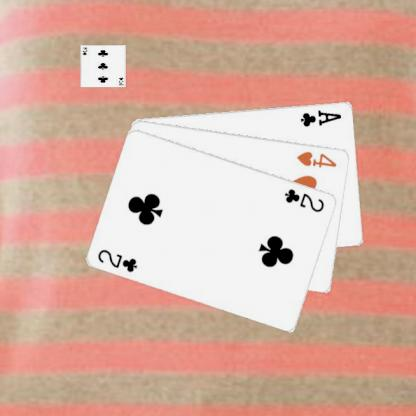2C: (282, 186, 326, 214), (96, 246, 140, 274)
4H: (294, 148, 338, 169)
AC: (298, 107, 343, 128)
